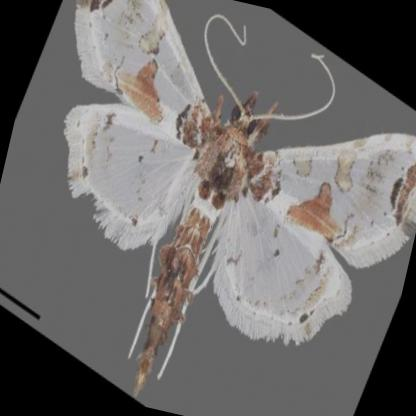leucinodes: (62, 0, 416, 392)
